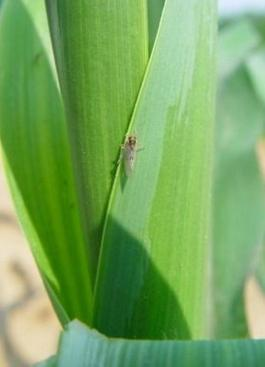Cicadellidae: (123, 136, 140, 175)
